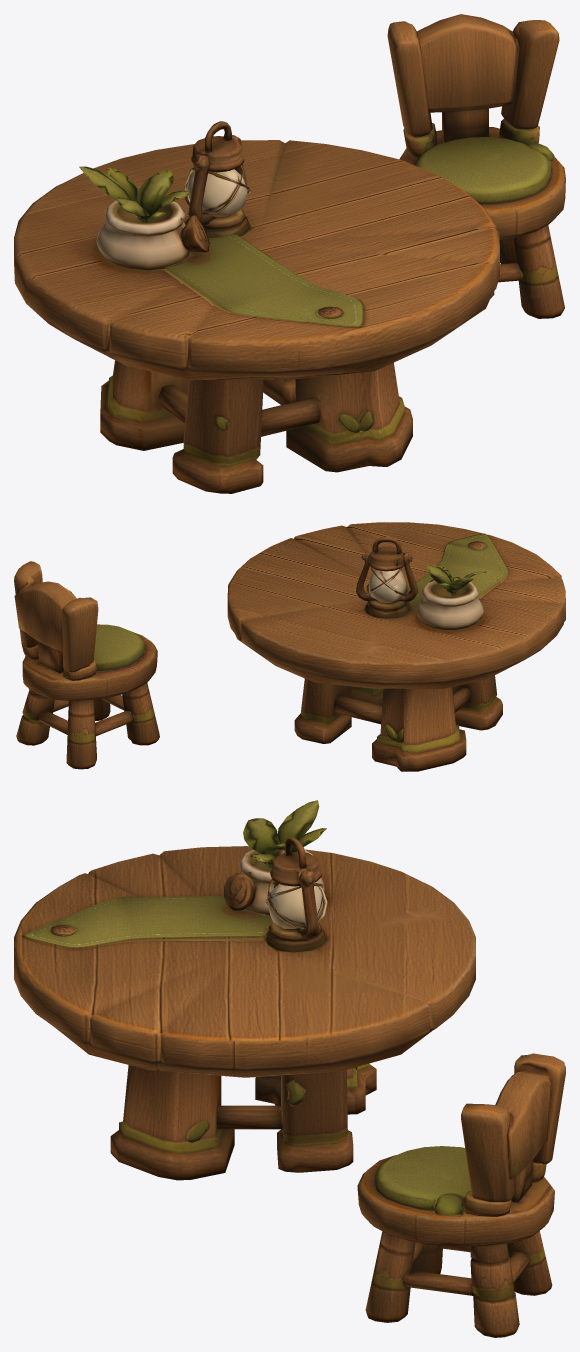
The model's file is New+table+and+chair+3d+model.fbx.
3 views of the same model, one above another, from view 1: azimuth 30°, elevation 25°; view 2: azimuth 150°, elevation 25°; view 3: azimuth 270°, elevation 25° (orthographic). The views are drawn at different scales.
Visible parts, largest first — view 1: tripo_node_66782e63-7ff5-436c-9c1b-81f12e564cff; view 2: tripo_node_66782e63-7ff5-436c-9c1b-81f12e564cff; view 3: tripo_node_66782e63-7ff5-436c-9c1b-81f12e564cff.
Part boxes in pixels (box(x1,y1,x2,y2)): tripo_node_66782e63-7ff5-436c-9c1b-81f12e564cff: box(14, 14, 565, 493); tripo_node_66782e63-7ff5-436c-9c1b-81f12e564cff: box(14, 522, 565, 771); tripo_node_66782e63-7ff5-436c-9c1b-81f12e564cff: box(14, 800, 565, 1337).
Bounding box in the file's own units: 0.998 × 0.4746 × 0.791.
1 material, 1 textured.
